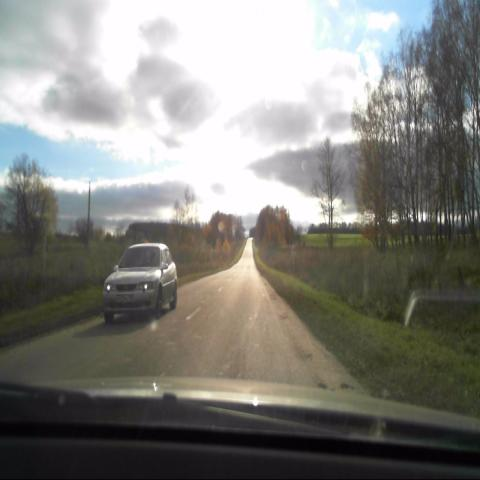1_14: (290, 244, 297, 258)
